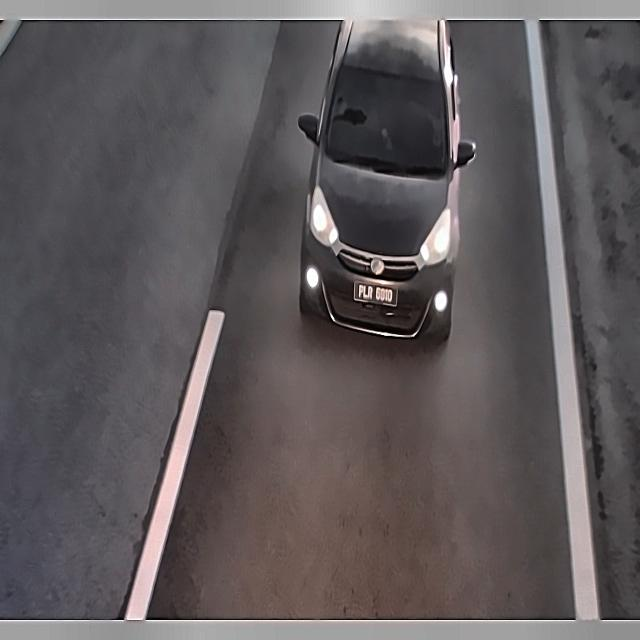car: (348, 269, 403, 314)
